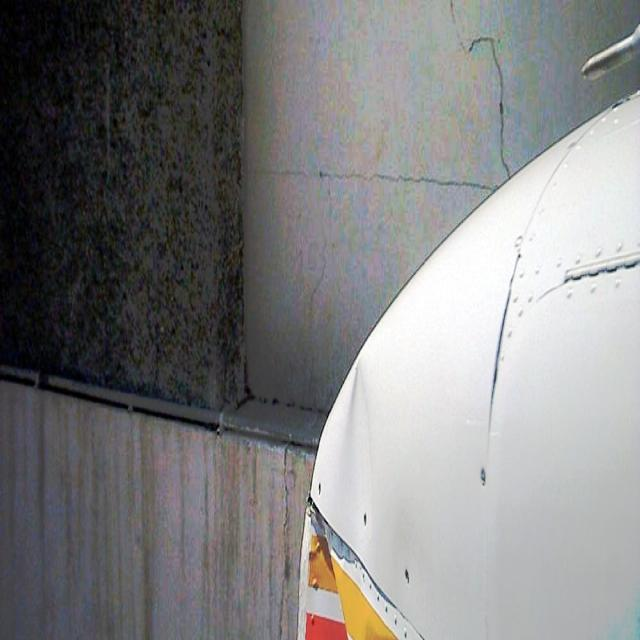dent: (291, 347, 376, 640)
